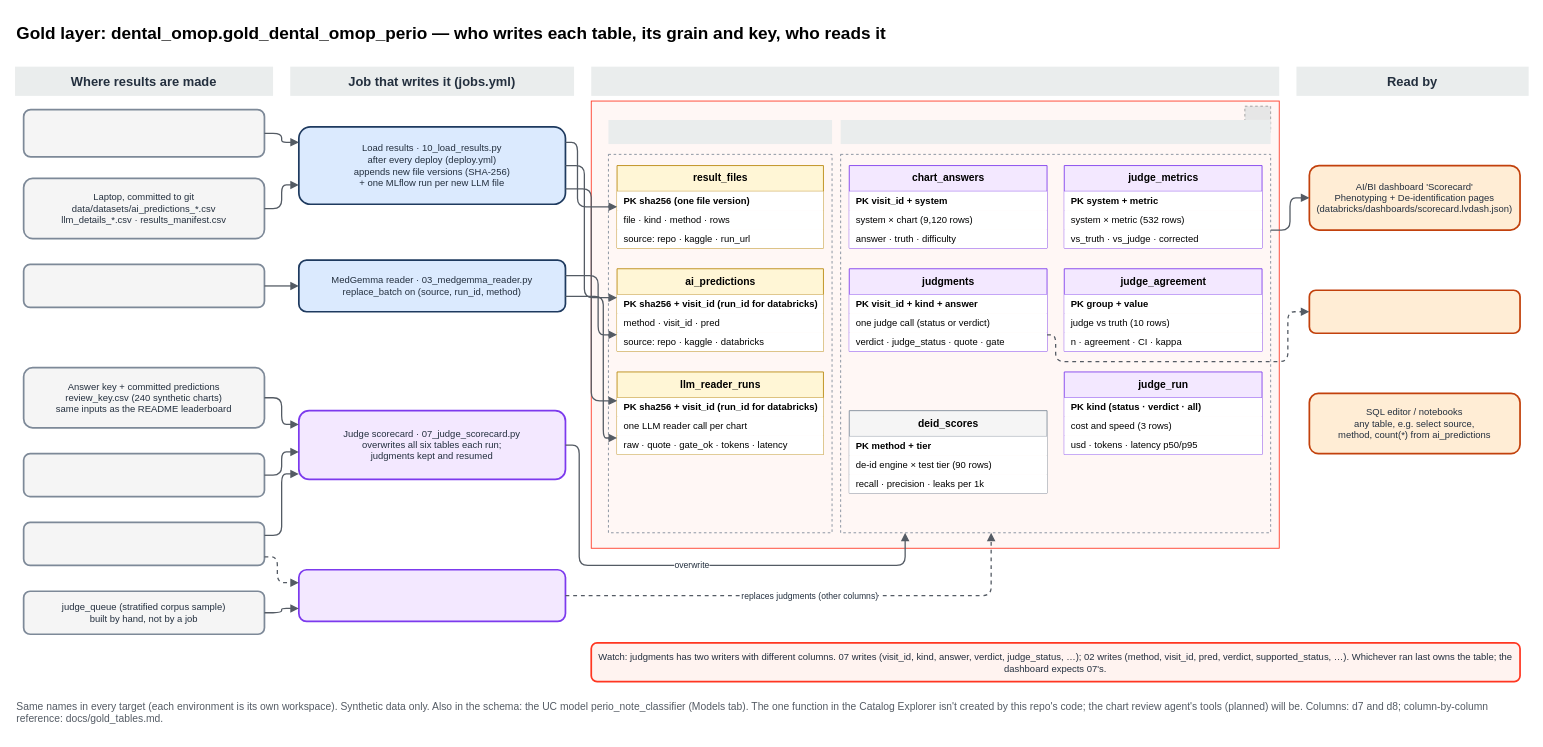
This 1543x747 diagram has some shape labels left out. Grey dashed boxes stand in for pictures. Here are the shapes that lost their labels. From the top down, the centre of each, then its label:
At (x=935, y=80): "dental_omop.gold_dental_omop_perio (9 tables)".
At (x=143, y=132): "Kaggle free GPU (MedGemma, GPU encoders) results PR → data/datasets/".
At (x=720, y=132): "Results from anywhere · spec 016".
At (x=1055, y=132): "Judge scorecard and de-identification · spec 012".
At (x=143, y=285): "Databricks serverless GPU (the reader job's own run)".
At (x=1414, y=311): "16_cost_effectiveness.py (corpus judgments, exported)".
At (x=143, y=474): "De-identification benchmark data/deid/scores.csv".
At (x=143, y=543): "Serving endpoint: LLM judge pay-per-token · 'none' skips the judge".
At (x=432, y=595): "LLM judge · 02_llm_judge.sql (ai_query) CREATE OR REPLACE judgments".
